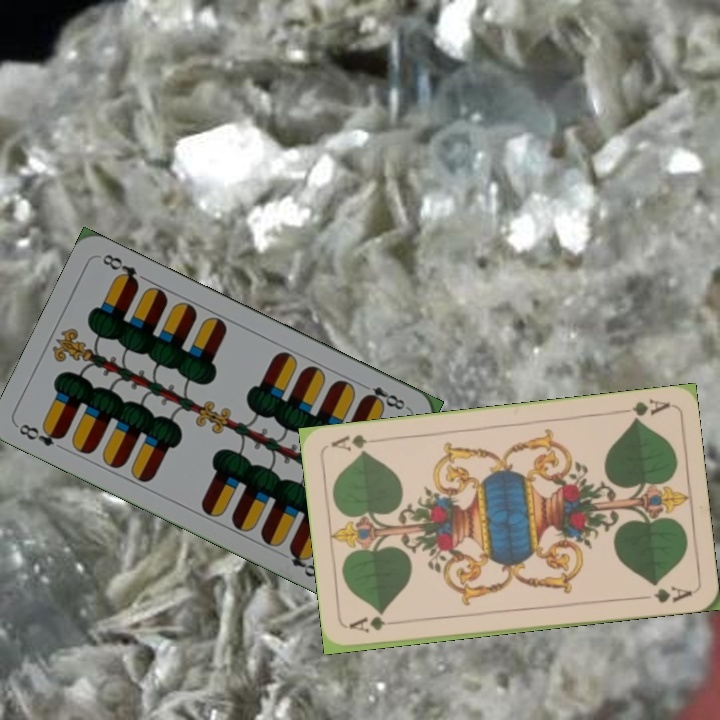E8: (357, 379, 412, 413), (14, 419, 67, 449)
GA: (345, 613, 405, 636), (628, 395, 672, 424)
